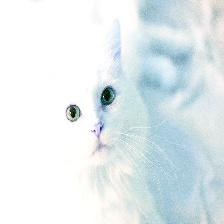kedo: (38, 17, 141, 160)
